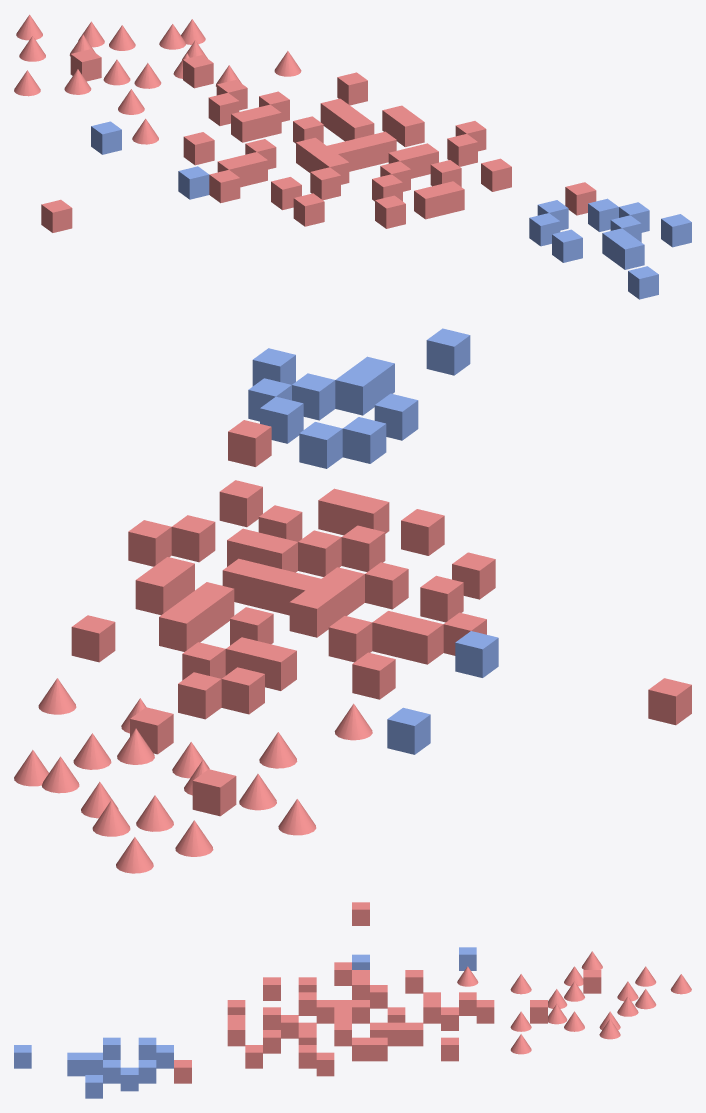
File: map.glb
3 views of the same model, one above another, from view 1: azimuth 30°, elevation 25°; view 2: azimuth 150°, elevation 25°; view 3: azimuth 270°, elevation 25° (orthographic). The views are drawn at different scales.
Size of the model in its own units: 24 by 1 by 38.1.
